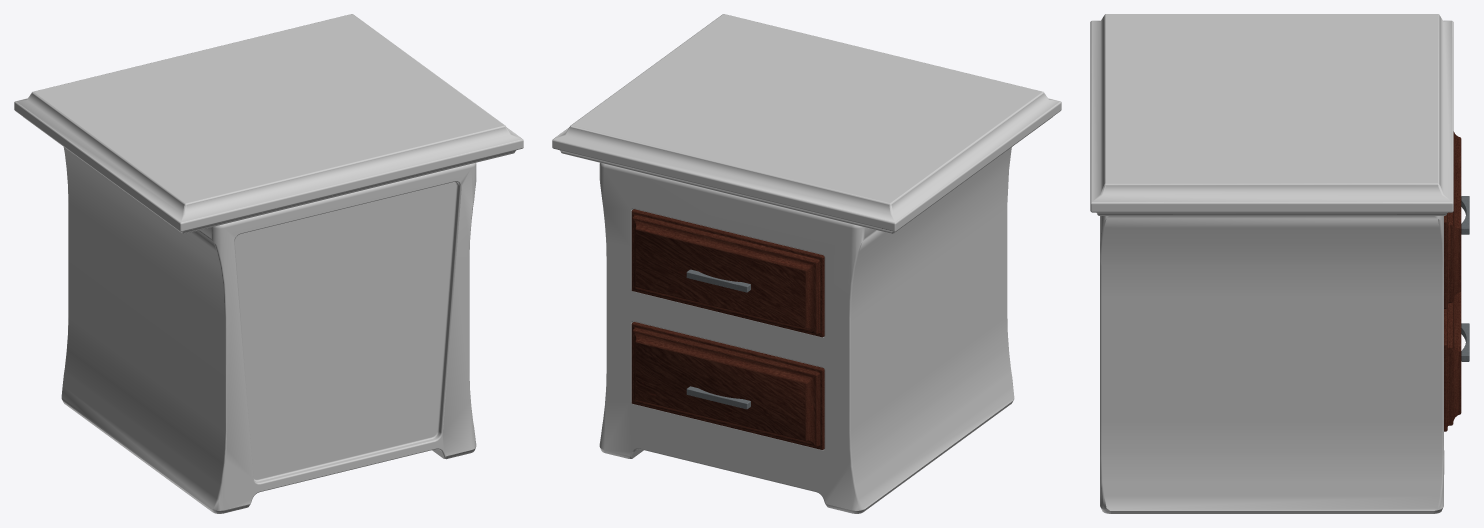
File: uploads_files_6092601_Nigth+table.fbx
The picture shows the model from 3 angles, left to right: view 1: azimuth 30°, elevation 25°; view 2: azimuth 150°, elevation 25°; view 3: azimuth 270°, elevation 25°; orthographic projection. The views are drawn at different scales.
Parts seen in each view (by area): view 1: mesa; view 2: mesa, cajon, manija; view 3: mesa, cajon, manija.
Boxes of the visible parts, x1,y1,x2,y2 form: mesa: (14,14,523,513); mesa: (552,14,1061,513); cajon: (631,209,824,449); manija: (686,269,750,409); mesa: (1090,14,1453,513); cajon: (1444,131,1461,431); manija: (1461,196,1469,361).
Size of the model in its own units: 59.46 by 52.75 by 52.17.
